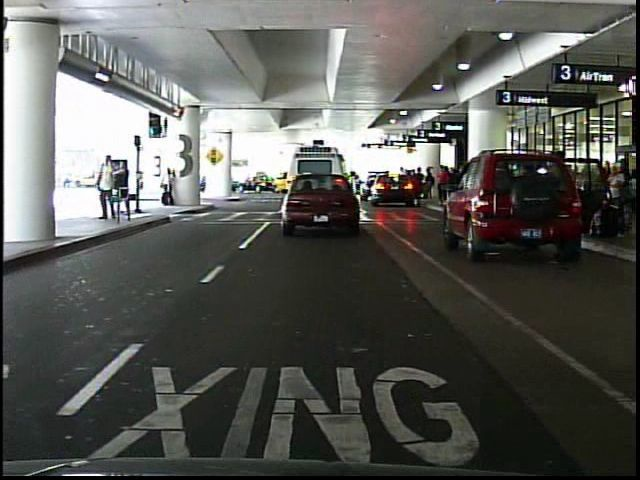person: (95, 152, 120, 225), (116, 156, 133, 218), (158, 167, 178, 210), (435, 165, 452, 203), (199, 166, 211, 204)
